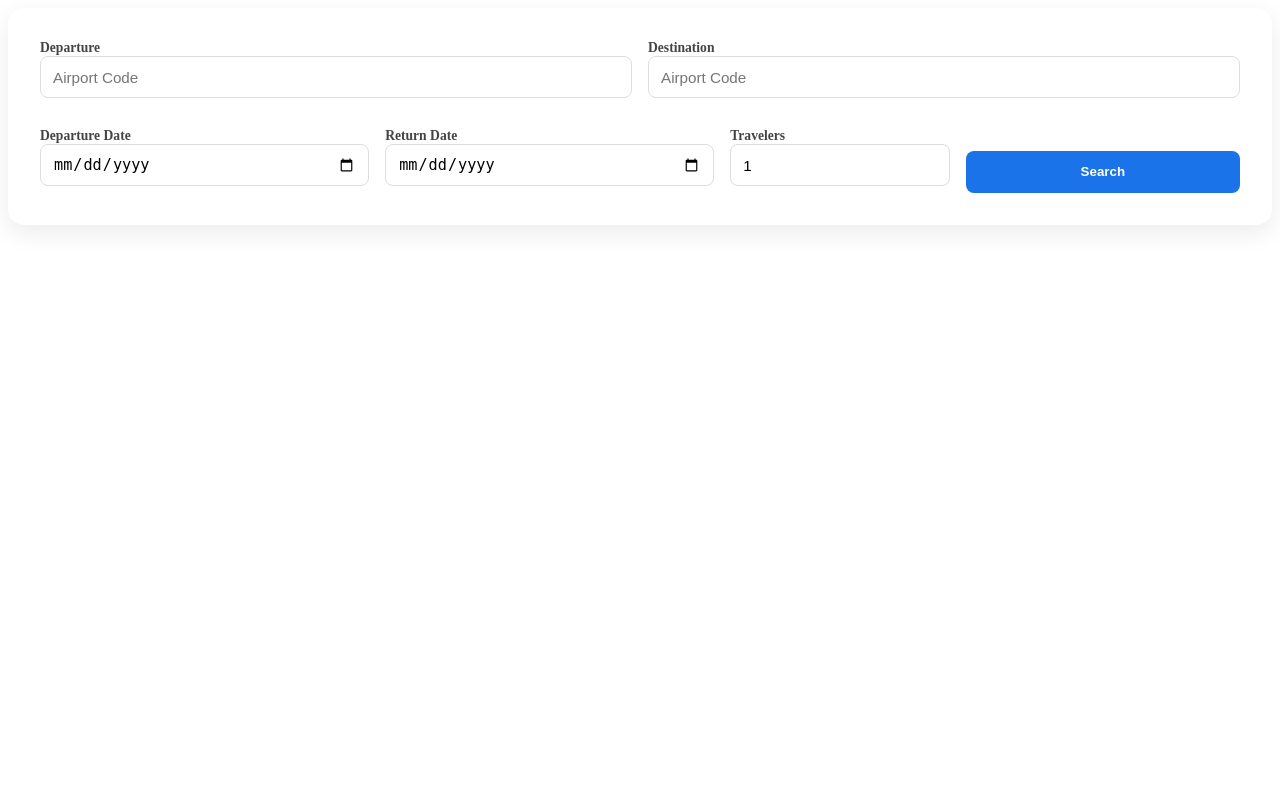
Scenario: FlightSearchCard - Component Behavior › shows error when departure or destination is empty
Click the button "Search": point(1103, 172) [966,151,1240,193]
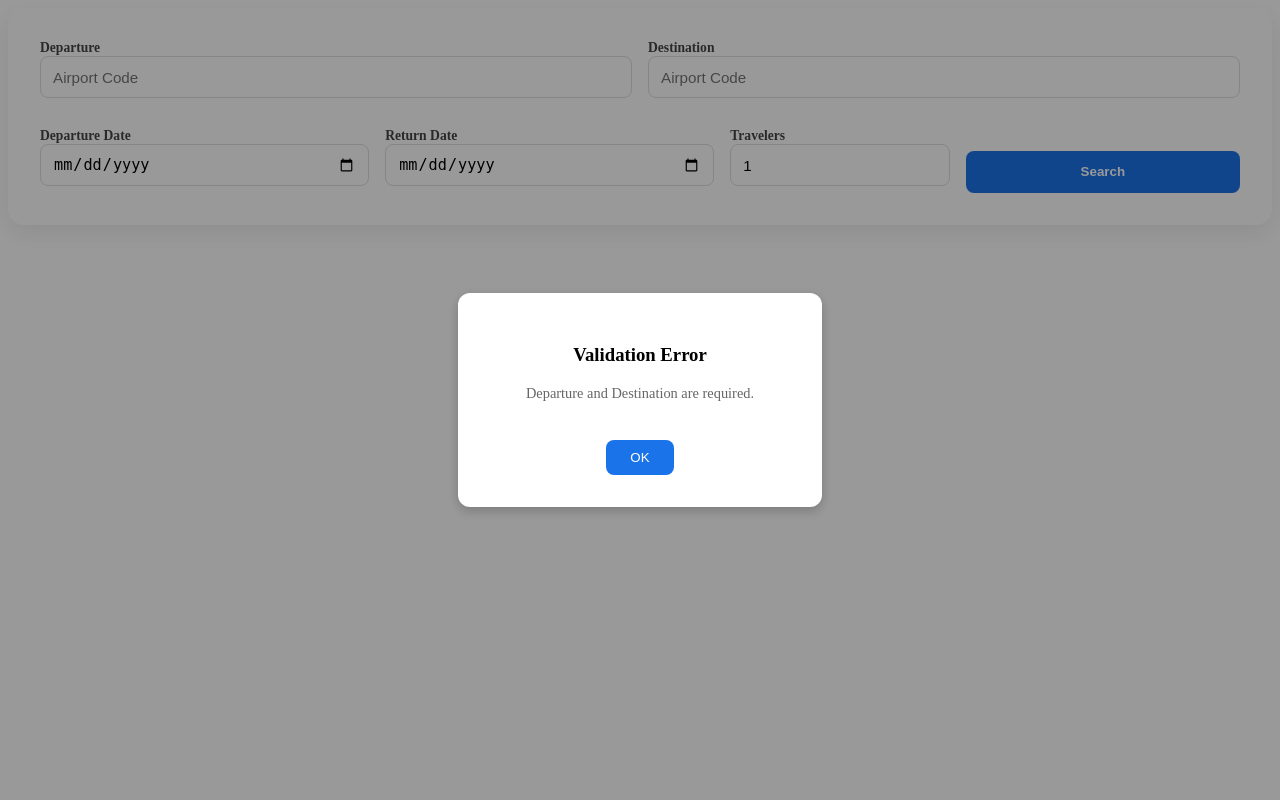
Check: the text "Departure and Destination are required." is shown, box [526,385,754,401]
